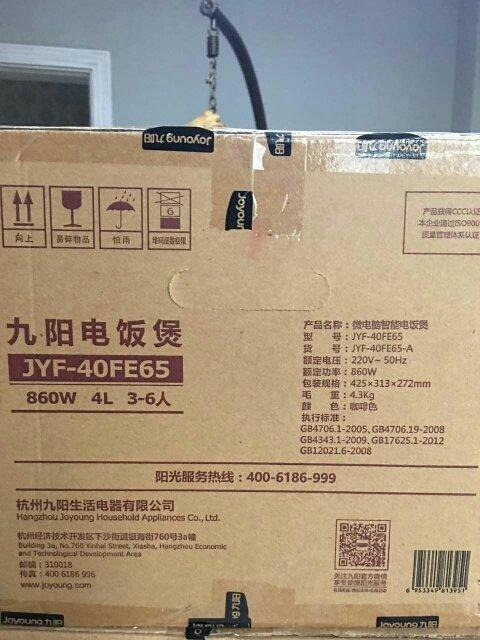cardboard: (0, 20, 479, 639)
